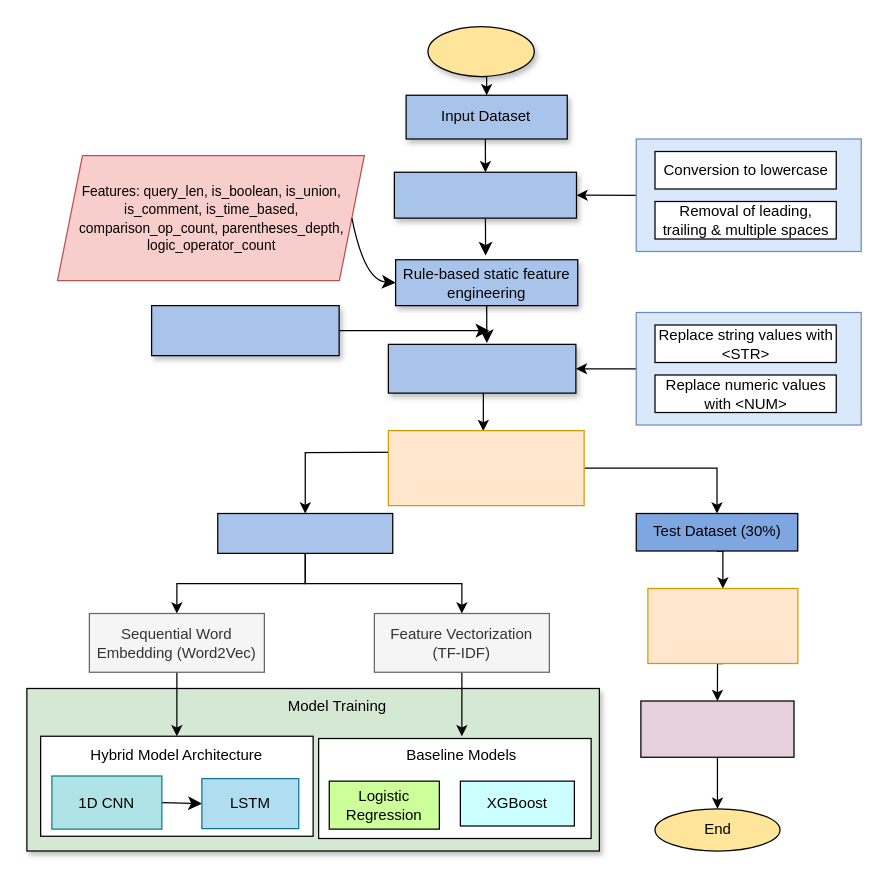
The diagram is 884 pixels wide and 883 high, and some of its shapes have lost their labels. The shapes that lost their labels are listed below. From the top down, each one's centre as x and y in pixels, then its label:
At pixel 482 52: "Start".
At pixel 486 196: "Data Preprocessing".
At pixel 246 331: "Exploratory Data Analysis (EDA)".
At pixel 482 370: "Data normalization & Tokenization".
At pixel 485 467: "Preprocessed Dataset Loaded into MongoDB".
At pixel 304 532: "Training Dataset (70%)".
At pixel 722 625: "Results Saved into MongoDB".
At pixel 717 728: "Model Evaluation and Interpretation".
